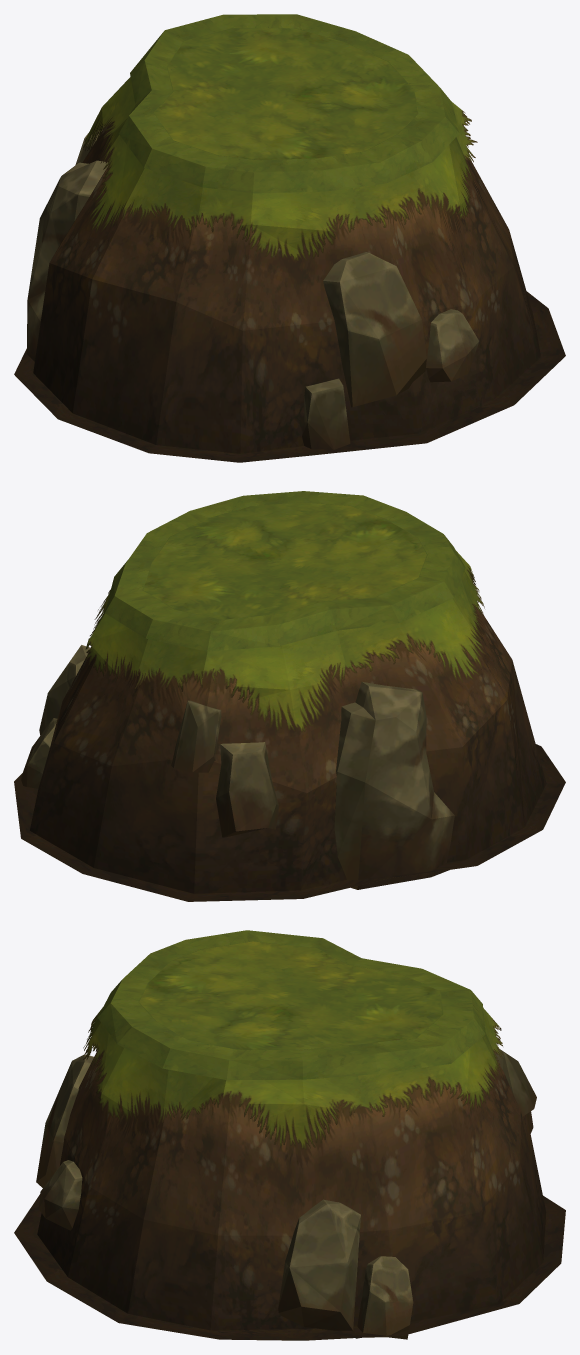
File: riverbed_mesa_03.fbx
3 renders of one model, top to bottom at view 1: azimuth 30°, elevation 25°; view 2: azimuth 150°, elevation 25°; view 3: azimuth 270°, elevation 25°, orthographic. The views are drawn at different scales.
Parts seen in each view (by area): view 1: obj3.013; view 2: obj3.013; view 3: obj3.013.
Boxes of the visible parts, x1,y1,x2,y2 form: obj3.013: (14, 14, 565, 462); obj3.013: (14, 491, 565, 901); obj3.013: (14, 930, 565, 1340).
Bounding box in the file's own units: 8.42 × 4.52 × 8.72.
